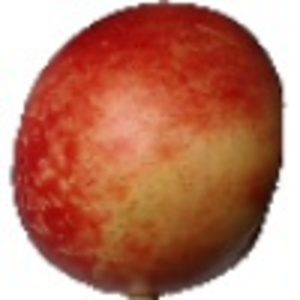nectarina: (8, 1, 287, 300)
